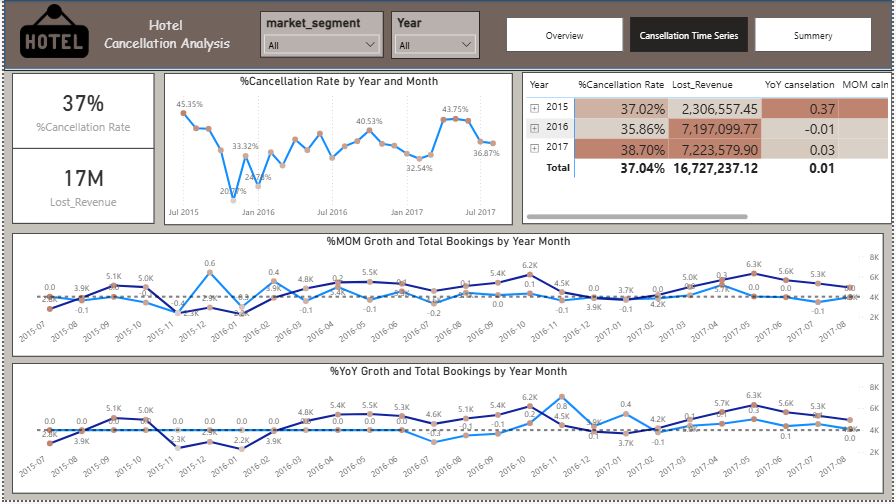

This screenshot's page, from the dashboard's own definition file:
{"tool":"powerbi","page":{"name":"Cansellation Time Series","canvas":[1280,720],"ordinal":1},"visuals":[{"type":"lineChart","fields":{"Category":["Dim_Date.Date.Variation.Date Hierarchy.Year","Dim_Date.Date.Variation.Date Hierarchy.Month"],"Y":["Measures (2).%Cancellation Rate"]},"box":[231,105.2,501.7,219],"z":0},{"type":"lineChart","fields":{"Y":["Measures (2).%YoY Groth"],"Category":["Dim_Date.Year Month"],"Y2":["Measures (2).Total Bookings"]},"box":[12.1,522.4,1255.2,187.9],"z":1000},{"type":"lineChart","fields":{"Y":["Measures (2).%MOM Groth"],"Category":["Dim_Date.Year Month"],"Y2":["Measures (2).Total Bookings"]},"box":[12.1,336.2,1255.2,177.6],"z":2000},{"type":"pivotTable","fields":{"Values":["Measures (2).%Cancellation Rate","Measures (2).Lost_Revenue","Measures (2).YoY canselation","Measures (2).MOM calnesllation Rate","Measures (2).%YoY Groth","Measures (2).%MOM Groth"],"Rows":["Dim_Date.Date.Variation.Date Hierarchy.Year","Dim_Date.Month Name"]},"box":[746.6,103.4,532.8,219],"z":3000},{"type":"advanceCardE03760C5AB684758B56AA29F9E6C257B","fields":{"mainMeasure":["Measures (2).%Cancellation Rate"]},"box":[12.1,105.2,205.2,108.6],"z":7000},{"type":"advanceCardE03760C5AB684758B56AA29F9E6C257B","fields":{"mainMeasure":["Measures (2).Lost_Revenue"]},"box":[12.1,213.8,205.2,108.6],"z":8000},{"type":"shape","box":[0,0,1279.3,101.7],"z":9000},{"type":"pageNavigator","box":[722.4,24.1,529.3,50],"z":12000},{"type":"image","box":[10.3,5.2,124.1,77.6],"z":13000},{"type":"slicer","fields":{"Values":["Dim_Date.Year"]},"box":[556.9,15.5,127.6,69],"z":14000},{"type":"slicer","fields":{"Values":["Dim_Market_Channel.market_segment"]},"box":[369,15.5,177.6,67.2],"z":15000},{"type":"textbox","box":[134.5,17.2,198.3,69],"z":16000}]}

Visuals, with their boxes in screenshot pixels (x1, y1, x2, y2), scaled from the page's 1280x720 canvas onto the 896x504 screenshot:
lineChart - Dim_Date.Date.Variation.Date Hierarchy.Year x Dim_Date.Date.Variation.Date Hierarchy.Month: (left=162, top=74, right=513, bottom=227)
lineChart - Measures (2).%YoY Groth x Dim_Date.Year Month: (left=8, top=366, right=887, bottom=497)
lineChart - Measures (2).%MOM Groth x Dim_Date.Year Month: (left=8, top=235, right=887, bottom=360)
pivotTable - Measures (2).%Cancellation Rate x Measures (2).Lost_Revenue: (left=523, top=72, right=895, bottom=226)
advanceCardE03760C5AB684758B56AA29F9E6C257B - Measures (2).%Cancellation Rate: (left=8, top=74, right=152, bottom=150)
advanceCardE03760C5AB684758B56AA29F9E6C257B - Measures (2).Lost_Revenue: (left=8, top=150, right=152, bottom=226)
shape: (left=0, top=0, right=895, bottom=71)
pageNavigator: (left=506, top=17, right=876, bottom=52)
image: (left=7, top=4, right=94, bottom=58)
slicer - Dim_Date.Year: (left=390, top=11, right=479, bottom=59)
slicer - Dim_Market_Channel.market_segment: (left=258, top=11, right=383, bottom=58)
textbox: (left=94, top=12, right=233, bottom=60)
